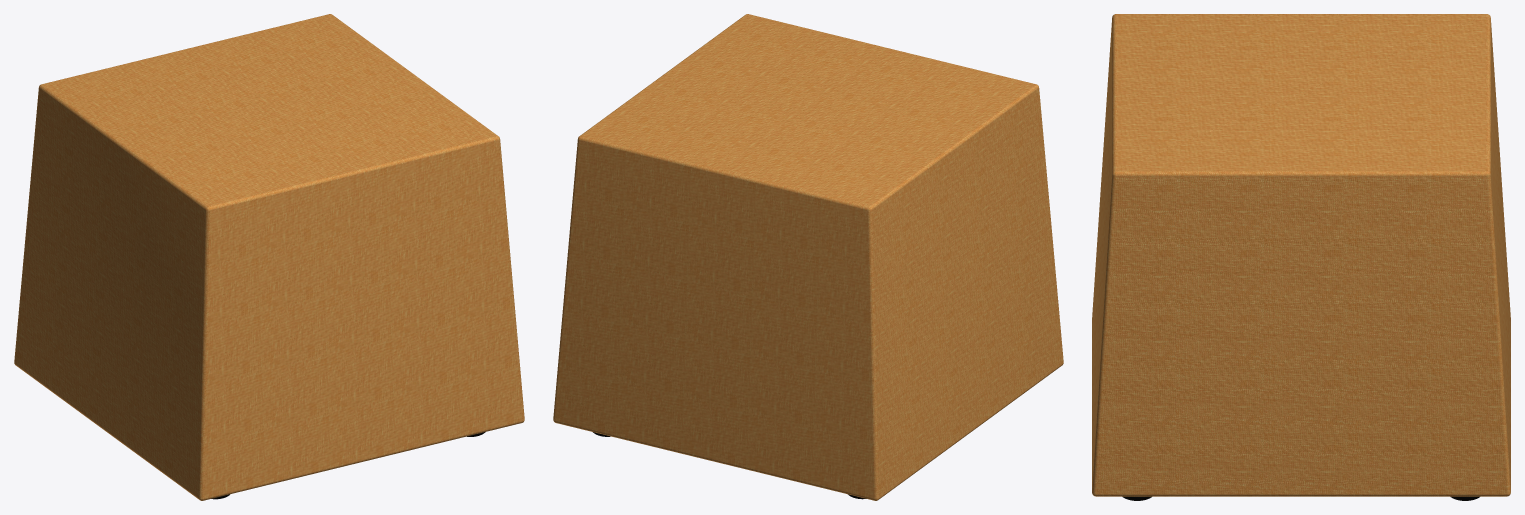
File: Lime.FBX
3 views of the same model, side by side, from view 1: azimuth 30°, elevation 25°; view 2: azimuth 150°, elevation 25°; view 3: azimuth 270°, elevation 25° (orthographic). The views are drawn at different scales.
Parts seen in each view (by area): view 1: UWC-107STG-LMO-AS-01-R002; view 2: UWC-107STG-LMO-AS-01-R002; view 3: UWC-107STG-LMO-AS-01-R002.
Part boxes in pixels (box(x1,y1,x2,y2)): UWC-107STG-LMO-AS-01-R002: box(14, 14, 524, 500); UWC-107STG-LMO-AS-01-R002: box(553, 14, 1063, 500); UWC-107STG-LMO-AS-01-R002: box(1092, 14, 1510, 496).
Bounding box in the file's own units: 509 × 450 × 509.
Materials: 2 (1 with a texture image).
